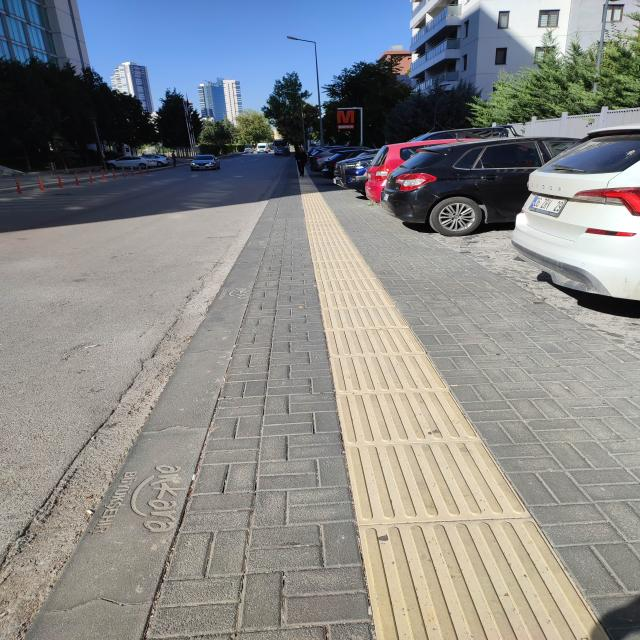sidewalk: (27, 178, 637, 640)
